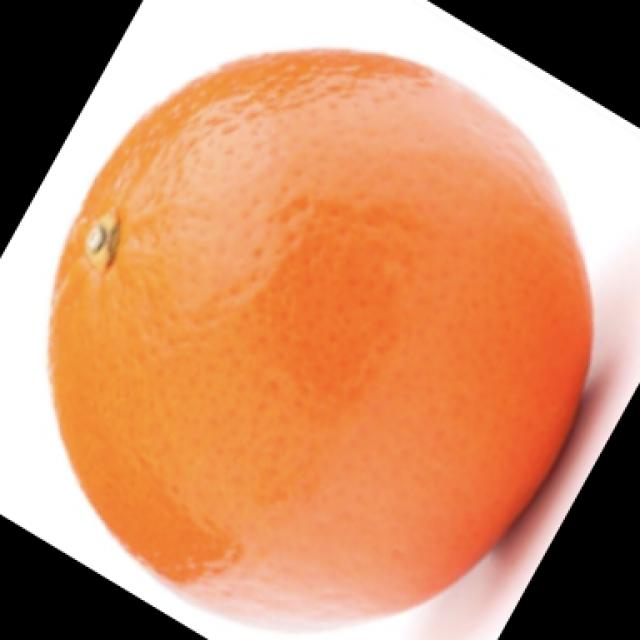fresh: (38, 34, 610, 630)
